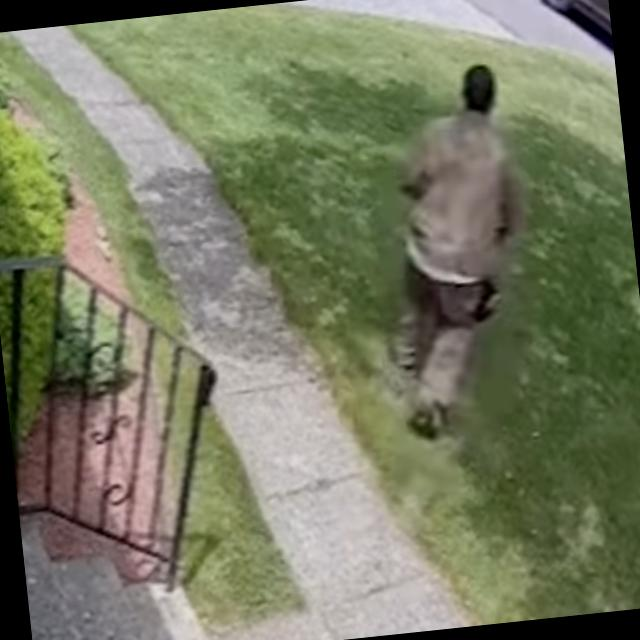person: (366, 59, 550, 438)
